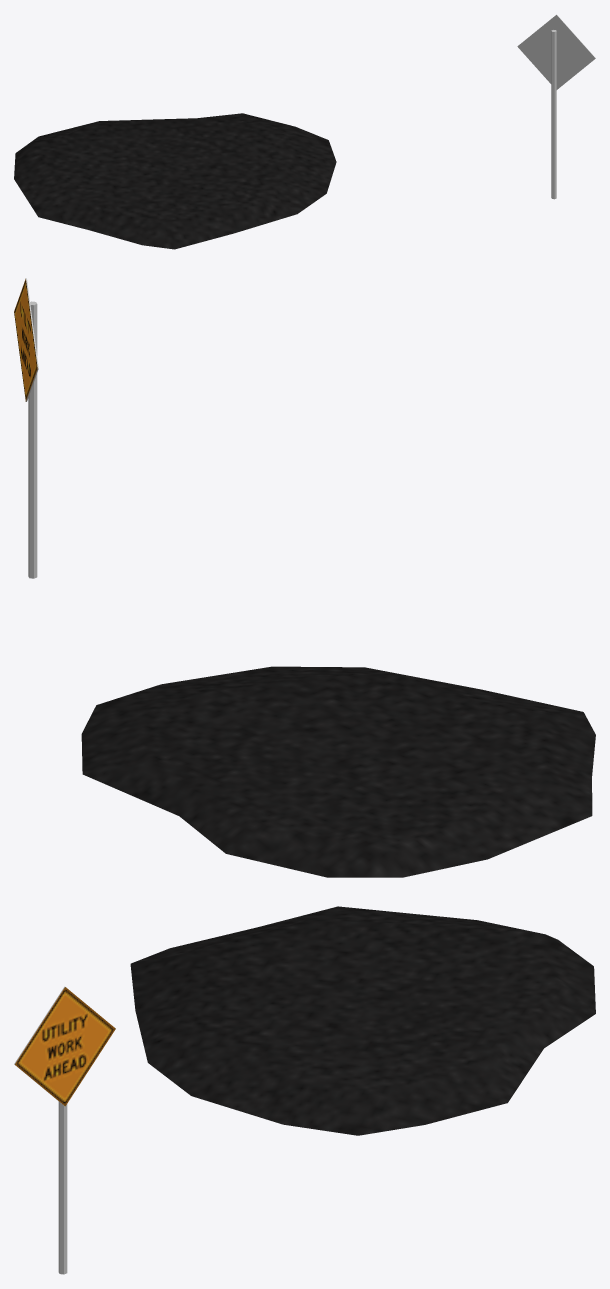
Rendered from Sticky_asphalt.FBX.
3 renders of one model, top to bottom at view 1: azimuth 30°, elevation 25°; view 2: azimuth 150°, elevation 25°; view 3: azimuth 270°, elevation 25°, orthographic. The views are drawn at different scales.
Visible parts, largest first — view 1: Sticky_asphalt, Sign, Pole; view 2: Sticky_asphalt, Pole, Sign; view 3: Sticky_asphalt, Sign, Pole.
Boxes of the visible parts, box(x1,y1,x2,y2) form: Sticky_asphalt: box(14, 113, 336, 249); Sign: box(517, 14, 595, 89); Pole: box(551, 30, 556, 199); Sticky_asphalt: box(81, 666, 595, 877); Pole: box(28, 301, 37, 578); Sign: box(14, 278, 38, 401); Sticky_asphalt: box(130, 906, 595, 1135); Sign: box(14, 986, 115, 1106); Pole: box(58, 1101, 67, 1274).
Size of the model in its own units: 70.98 by 27.13 by 49.58.
